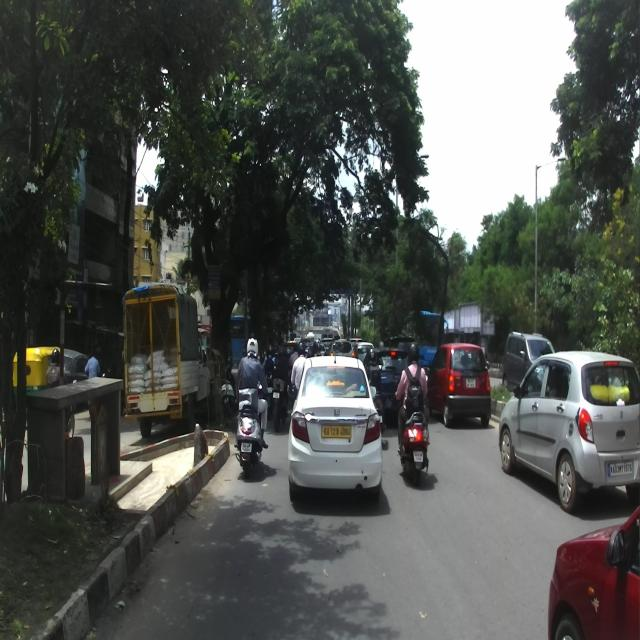car: (498, 348, 639, 514), (287, 342, 383, 505), (426, 342, 491, 427)
scooter: (392, 371, 429, 487), (235, 371, 268, 479)
